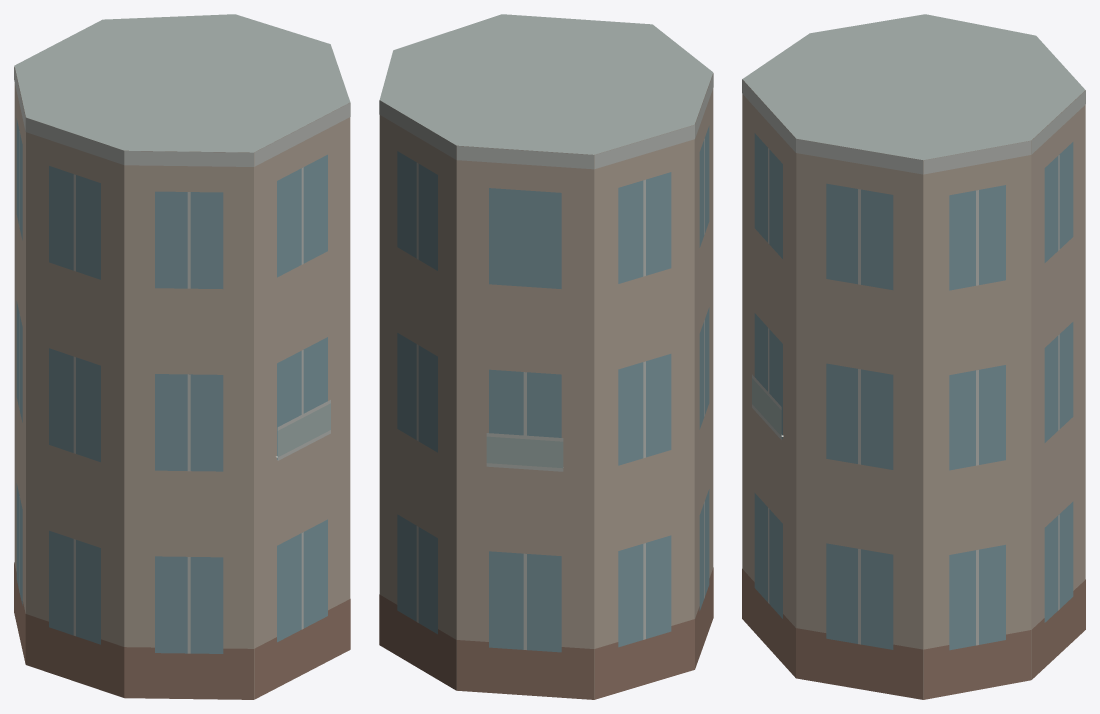
The model's file is survey-upis-32887151.glb.
The picture shows the model from 3 angles, left to right: view 1: azimuth 30°, elevation 25°; view 2: azimuth 150°, elevation 25°; view 3: azimuth 270°, elevation 25°; orthographic projection.
Visible parts, largest first — view 1: survey-upis-32887151.tmp; view 2: survey-upis-32887151.tmp; view 3: survey-upis-32887151.tmp.
Part boxes in pixels (x1=…): survey-upis-32887151.tmp: x1=14, y1=14, x2=350, y2=699; survey-upis-32887151.tmp: x1=379, y1=14, x2=713, y2=699; survey-upis-32887151.tmp: x1=742, y1=14, x2=1085, y2=699.
Size of the model in its own units: 5.32 by 9.15 by 5.29.
